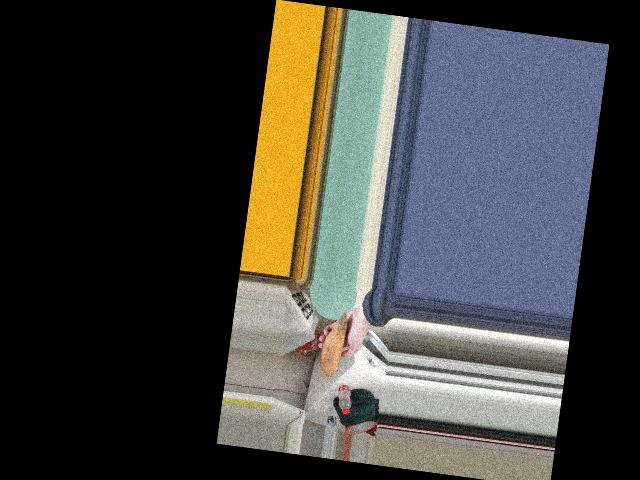sweet_potato: (319, 315, 349, 372)
